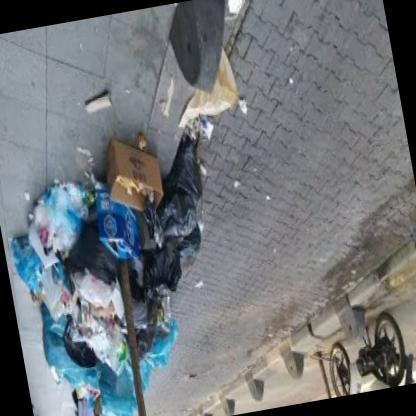Garbage: (124, 136, 236, 308), (70, 122, 178, 274), (38, 293, 106, 415), (91, 111, 174, 207), (69, 246, 130, 370), (177, 76, 248, 166), (6, 214, 54, 310), (140, 280, 188, 374), (22, 195, 79, 263), (60, 300, 116, 366), (42, 150, 100, 212), (35, 243, 76, 324), (74, 69, 122, 132), (96, 363, 140, 415), (225, 0, 254, 40), (237, 96, 250, 114)
